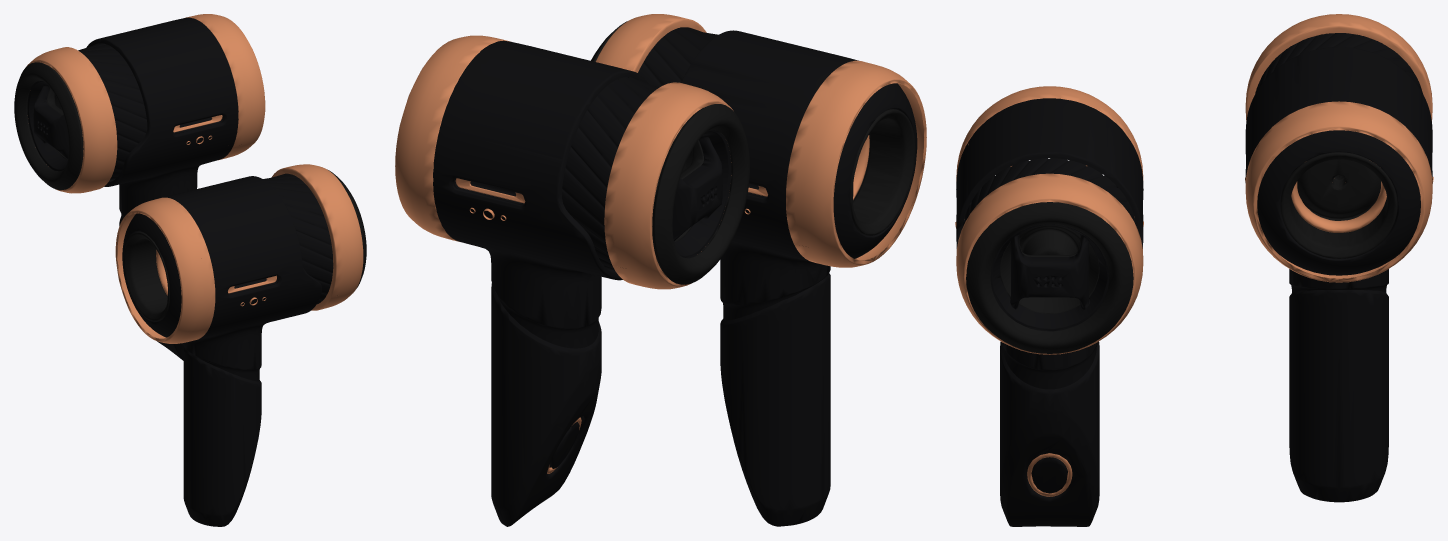
Rendered from earphone.glb.
The picture shows the model from 3 angles, left to right: view 1: azimuth 30°, elevation 25°; view 2: azimuth 150°, elevation 25°; view 3: azimuth 270°, elevation 25°; orthographic projection. The views are drawn at different scales.
Parts seen in each view (by area): view 1: Earphone1_polySurface26, Earphone1_polySurface26.001; view 2: Earphone1_polySurface26.001, Earphone1_polySurface26; view 3: Earphone1_polySurface26.001, Earphone1_polySurface26.
Part boxes in pixels (<box>): Earphone1_polySurface26: <box>115,164,366,526</box>; Earphone1_polySurface26.001: <box>14,14,265,360</box>; Earphone1_polySurface26.001: <box>395,35,749,526</box>; Earphone1_polySurface26: <box>591,14,926,526</box>; Earphone1_polySurface26.001: <box>1245,14,1433,502</box>; Earphone1_polySurface26: <box>955,86,1143,526</box>.
Size of the model in its own units: 0.0417 by 0.0762 by 0.0671.
3 materials, 3 textured.
